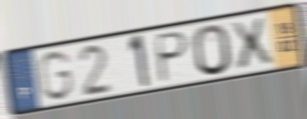1: (127, 32, 152, 91)
2: (76, 42, 113, 99)
G: (36, 49, 75, 102)
O: (191, 23, 234, 79)
P: (155, 29, 191, 85)
X: (227, 15, 276, 72)
